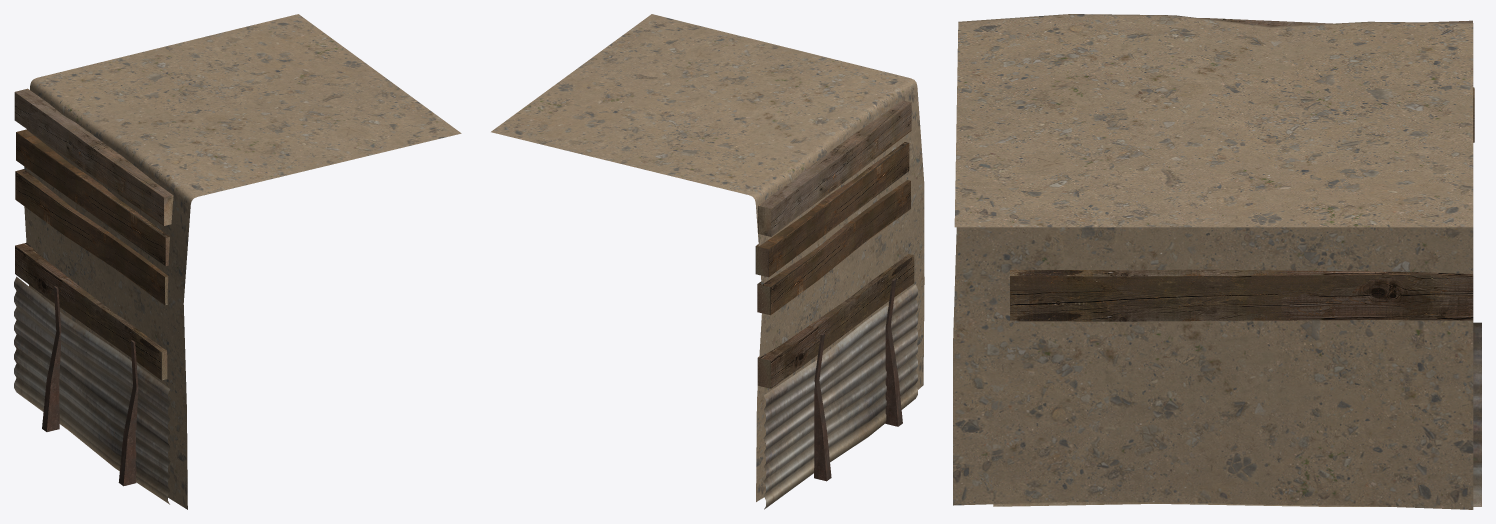
Rendered from section_4.fbx.
The picture shows the model from 3 angles, left to right: view 1: azimuth 30°, elevation 25°; view 2: azimuth 150°, elevation 25°; view 3: azimuth 270°, elevation 25°; orthographic projection. The views are drawn at different scales.
Parts seen in each view (by area): view 1: Box094, Plane011, Box098, Box101, Box096, Box097, Box107, Box108; view 2: Box094, Plane011, Box098, Box101, Box096, Box097, Box108, Box107; view 3: Box094, Box096, Plane011, Box098.
Boxes of the visible parts, x1,y1,x2,y2 form: Box094: (24, 14, 461, 509); Plane011: (14, 276, 170, 504); Box098: (14, 88, 173, 225); Box101: (16, 129, 169, 266); Box096: (15, 242, 167, 380); Box097: (15, 169, 168, 305); Box107: (42, 286, 61, 431); Box108: (118, 340, 138, 486); Box094: (491, 14, 924, 501); Plane011: (764, 284, 917, 509); Box098: (758, 100, 911, 236); Box101: (755, 142, 909, 277); Box096: (757, 254, 914, 388); Box097: (757, 180, 910, 315); Box108: (885, 278, 902, 426); Box107: (814, 333, 831, 481); Box094: (953, 14, 1473, 509); Box096: (1010, 269, 1473, 321); Plane011: (993, 322, 1481, 506); Box098: (1199, 18, 1472, 26).
Bounding box in the file's own units: 370 × 375 × 357.
